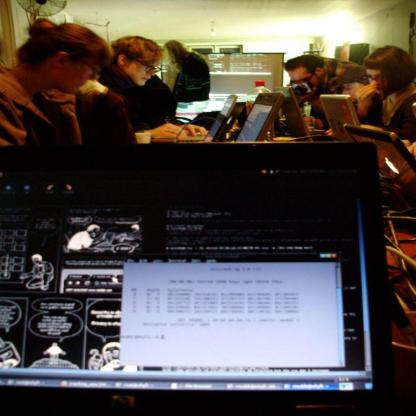board: (0, 140, 401, 415), (152, 93, 238, 142), (269, 86, 333, 138), (316, 94, 369, 140), (233, 93, 282, 141), (246, 79, 271, 114)
